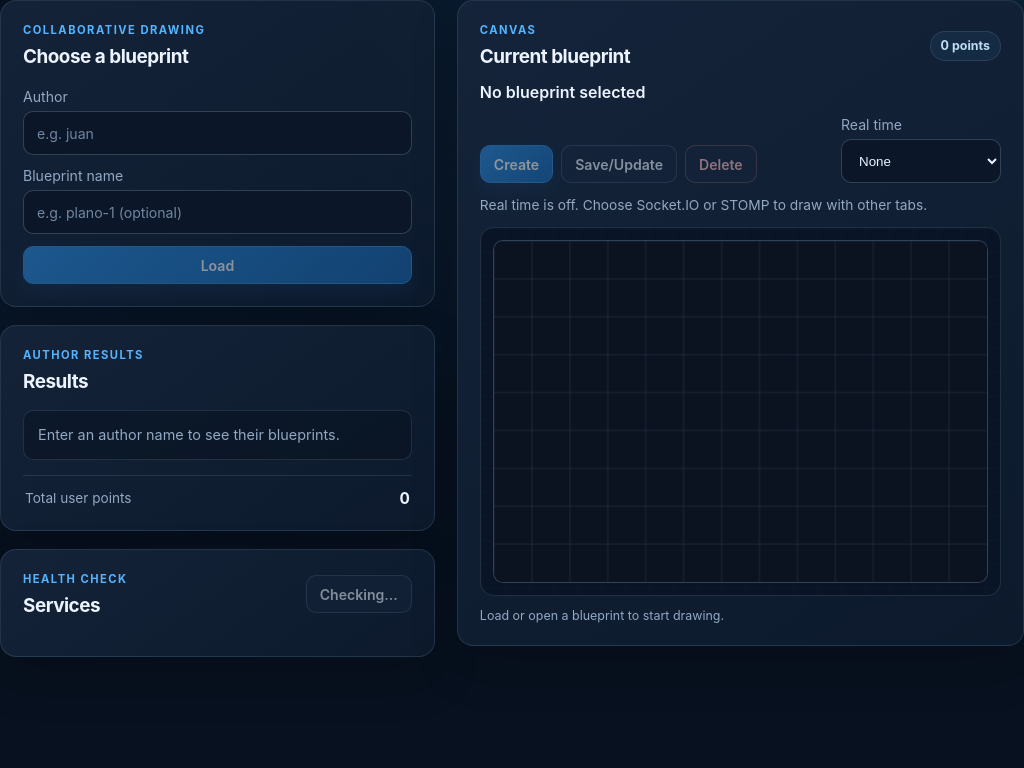
Scenario: RealtimeBlueprintPage › shows the error and keeps the draft when Create fails
In the field with placeholder "e.g. juan": (217, 133) left=23, top=111, right=412, bottom=155, type "juan"
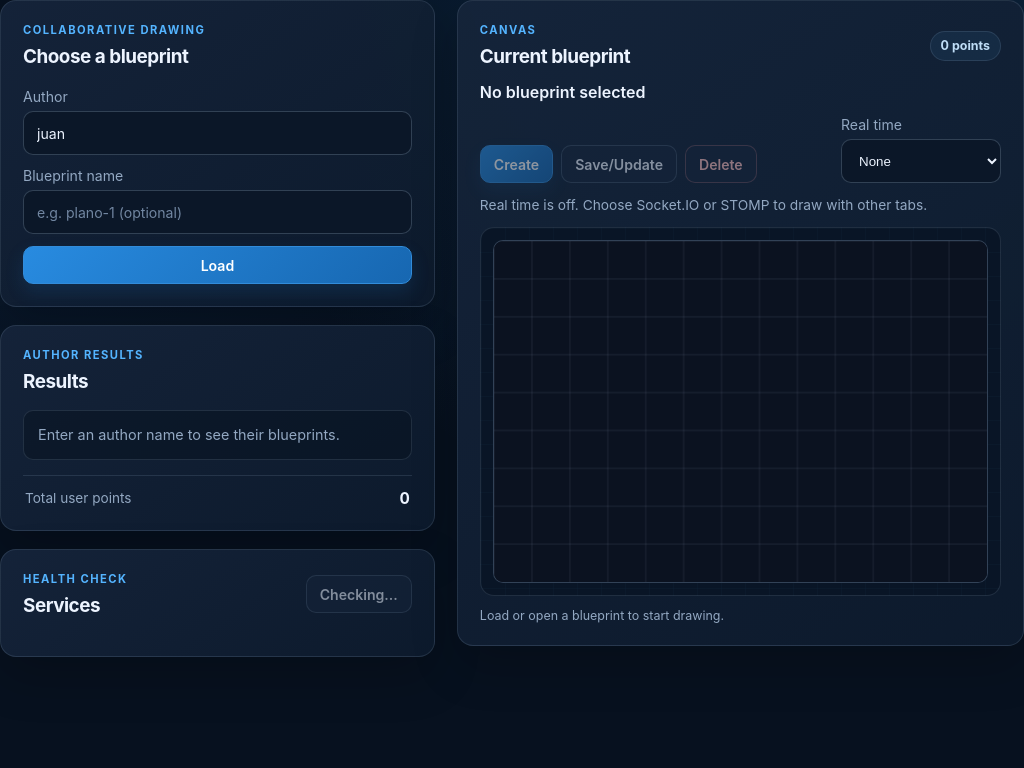
In the field with placeholder "e.g. plano-1 (optional)": (217, 212) left=23, top=190, right=412, bottom=234, type "plano-9"
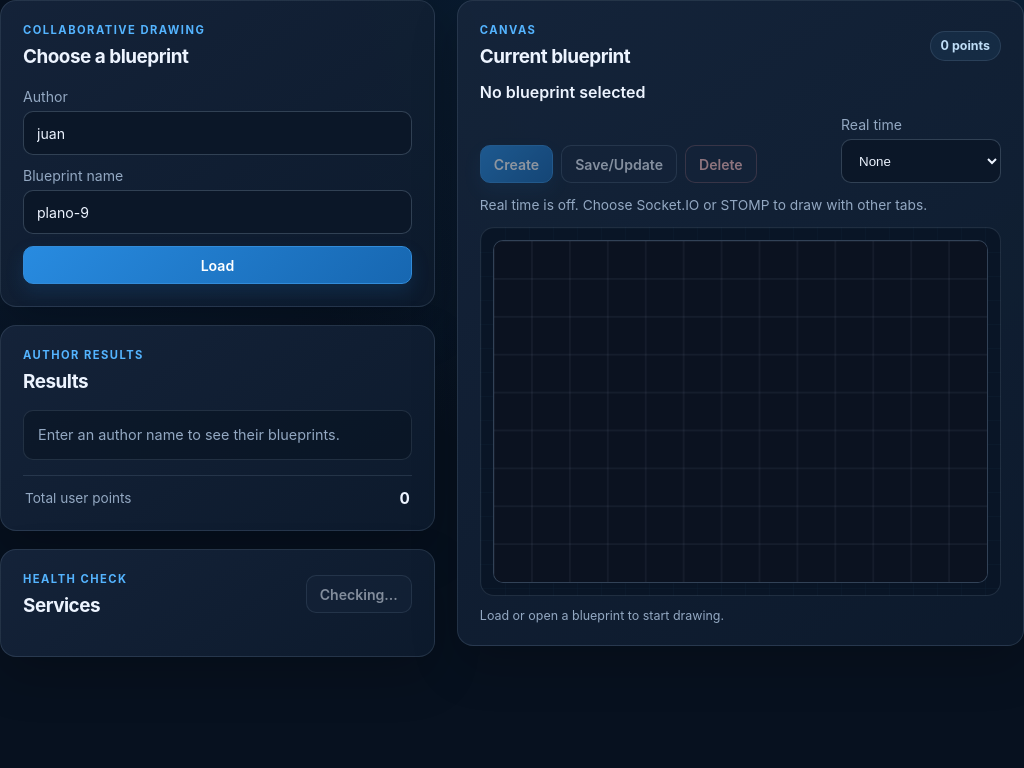
Click the button "Load": (217, 265) left=23, top=246, right=412, bottom=284
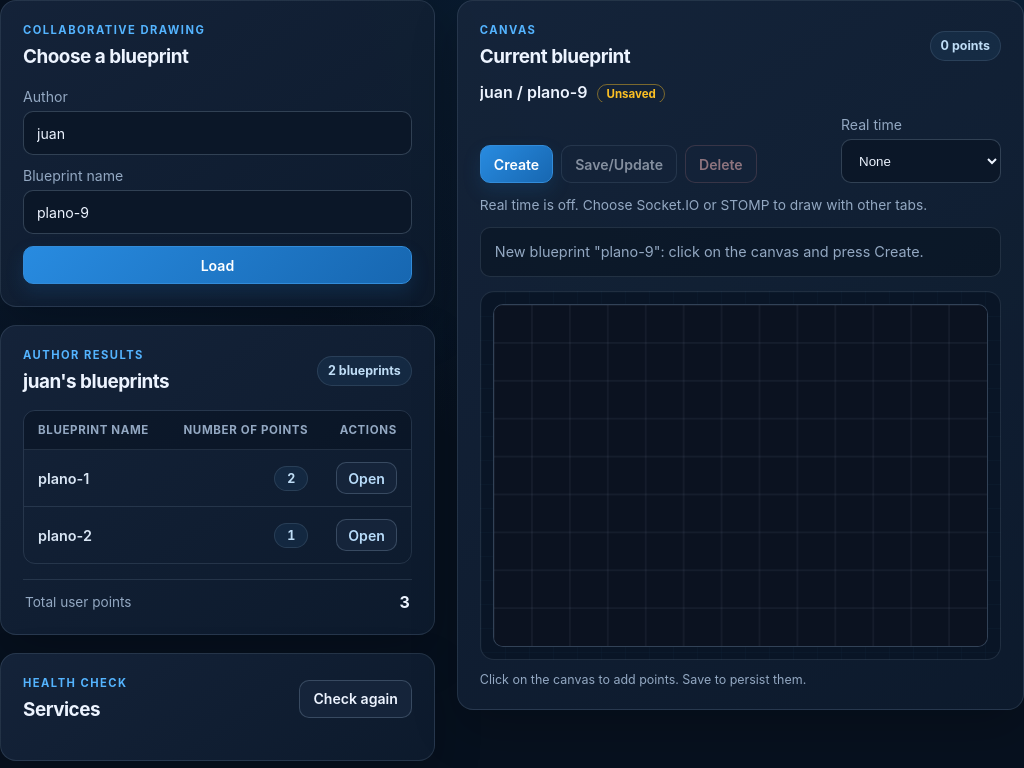
Click the drawing with id "blueprint-canvas": (740, 475) left=493, top=304, right=988, bottom=647
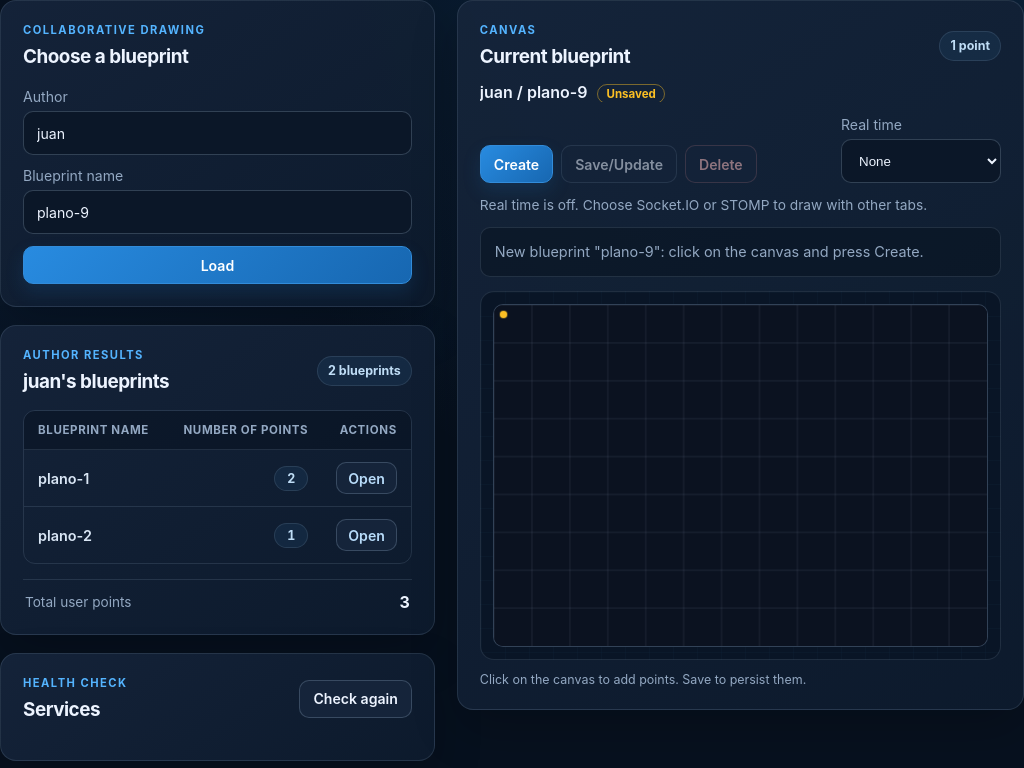
Click the button "Create": (516, 164) left=480, top=145, right=553, bottom=183
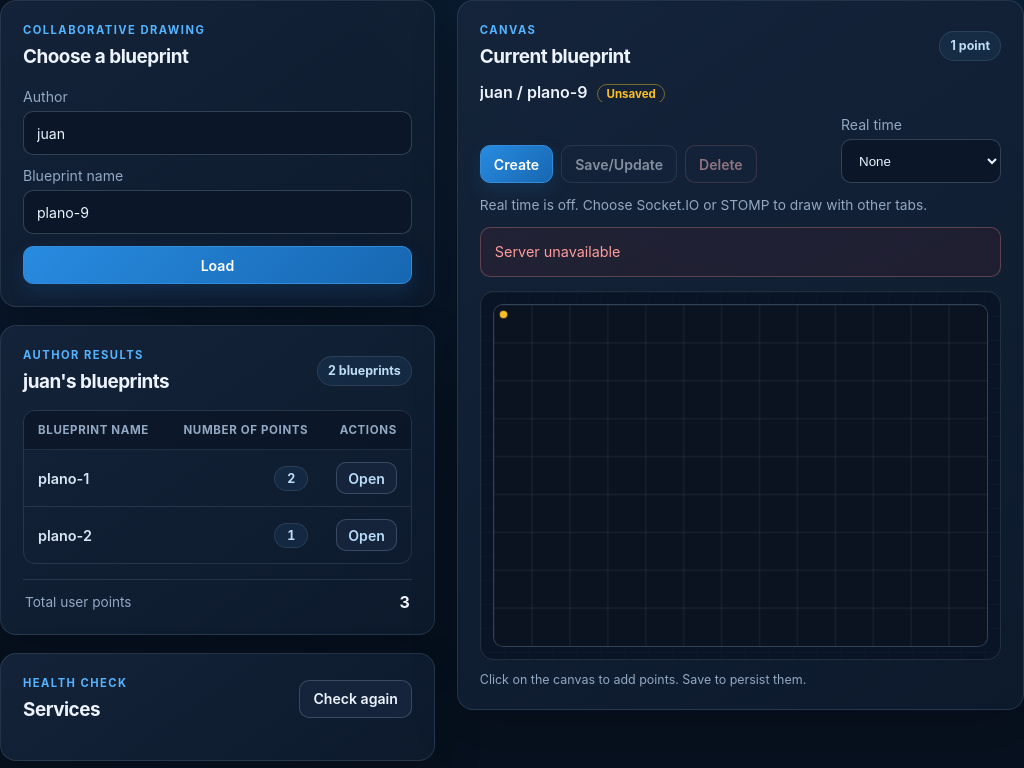
Result: the text "Unsaved" is shown at left=598, top=84, right=665, bottom=102
Result: the text "1 point" is shown at left=939, top=30, right=1001, bottom=60
Result: the message reads "Server unavailable" at left=495, top=243, right=620, bottom=260
